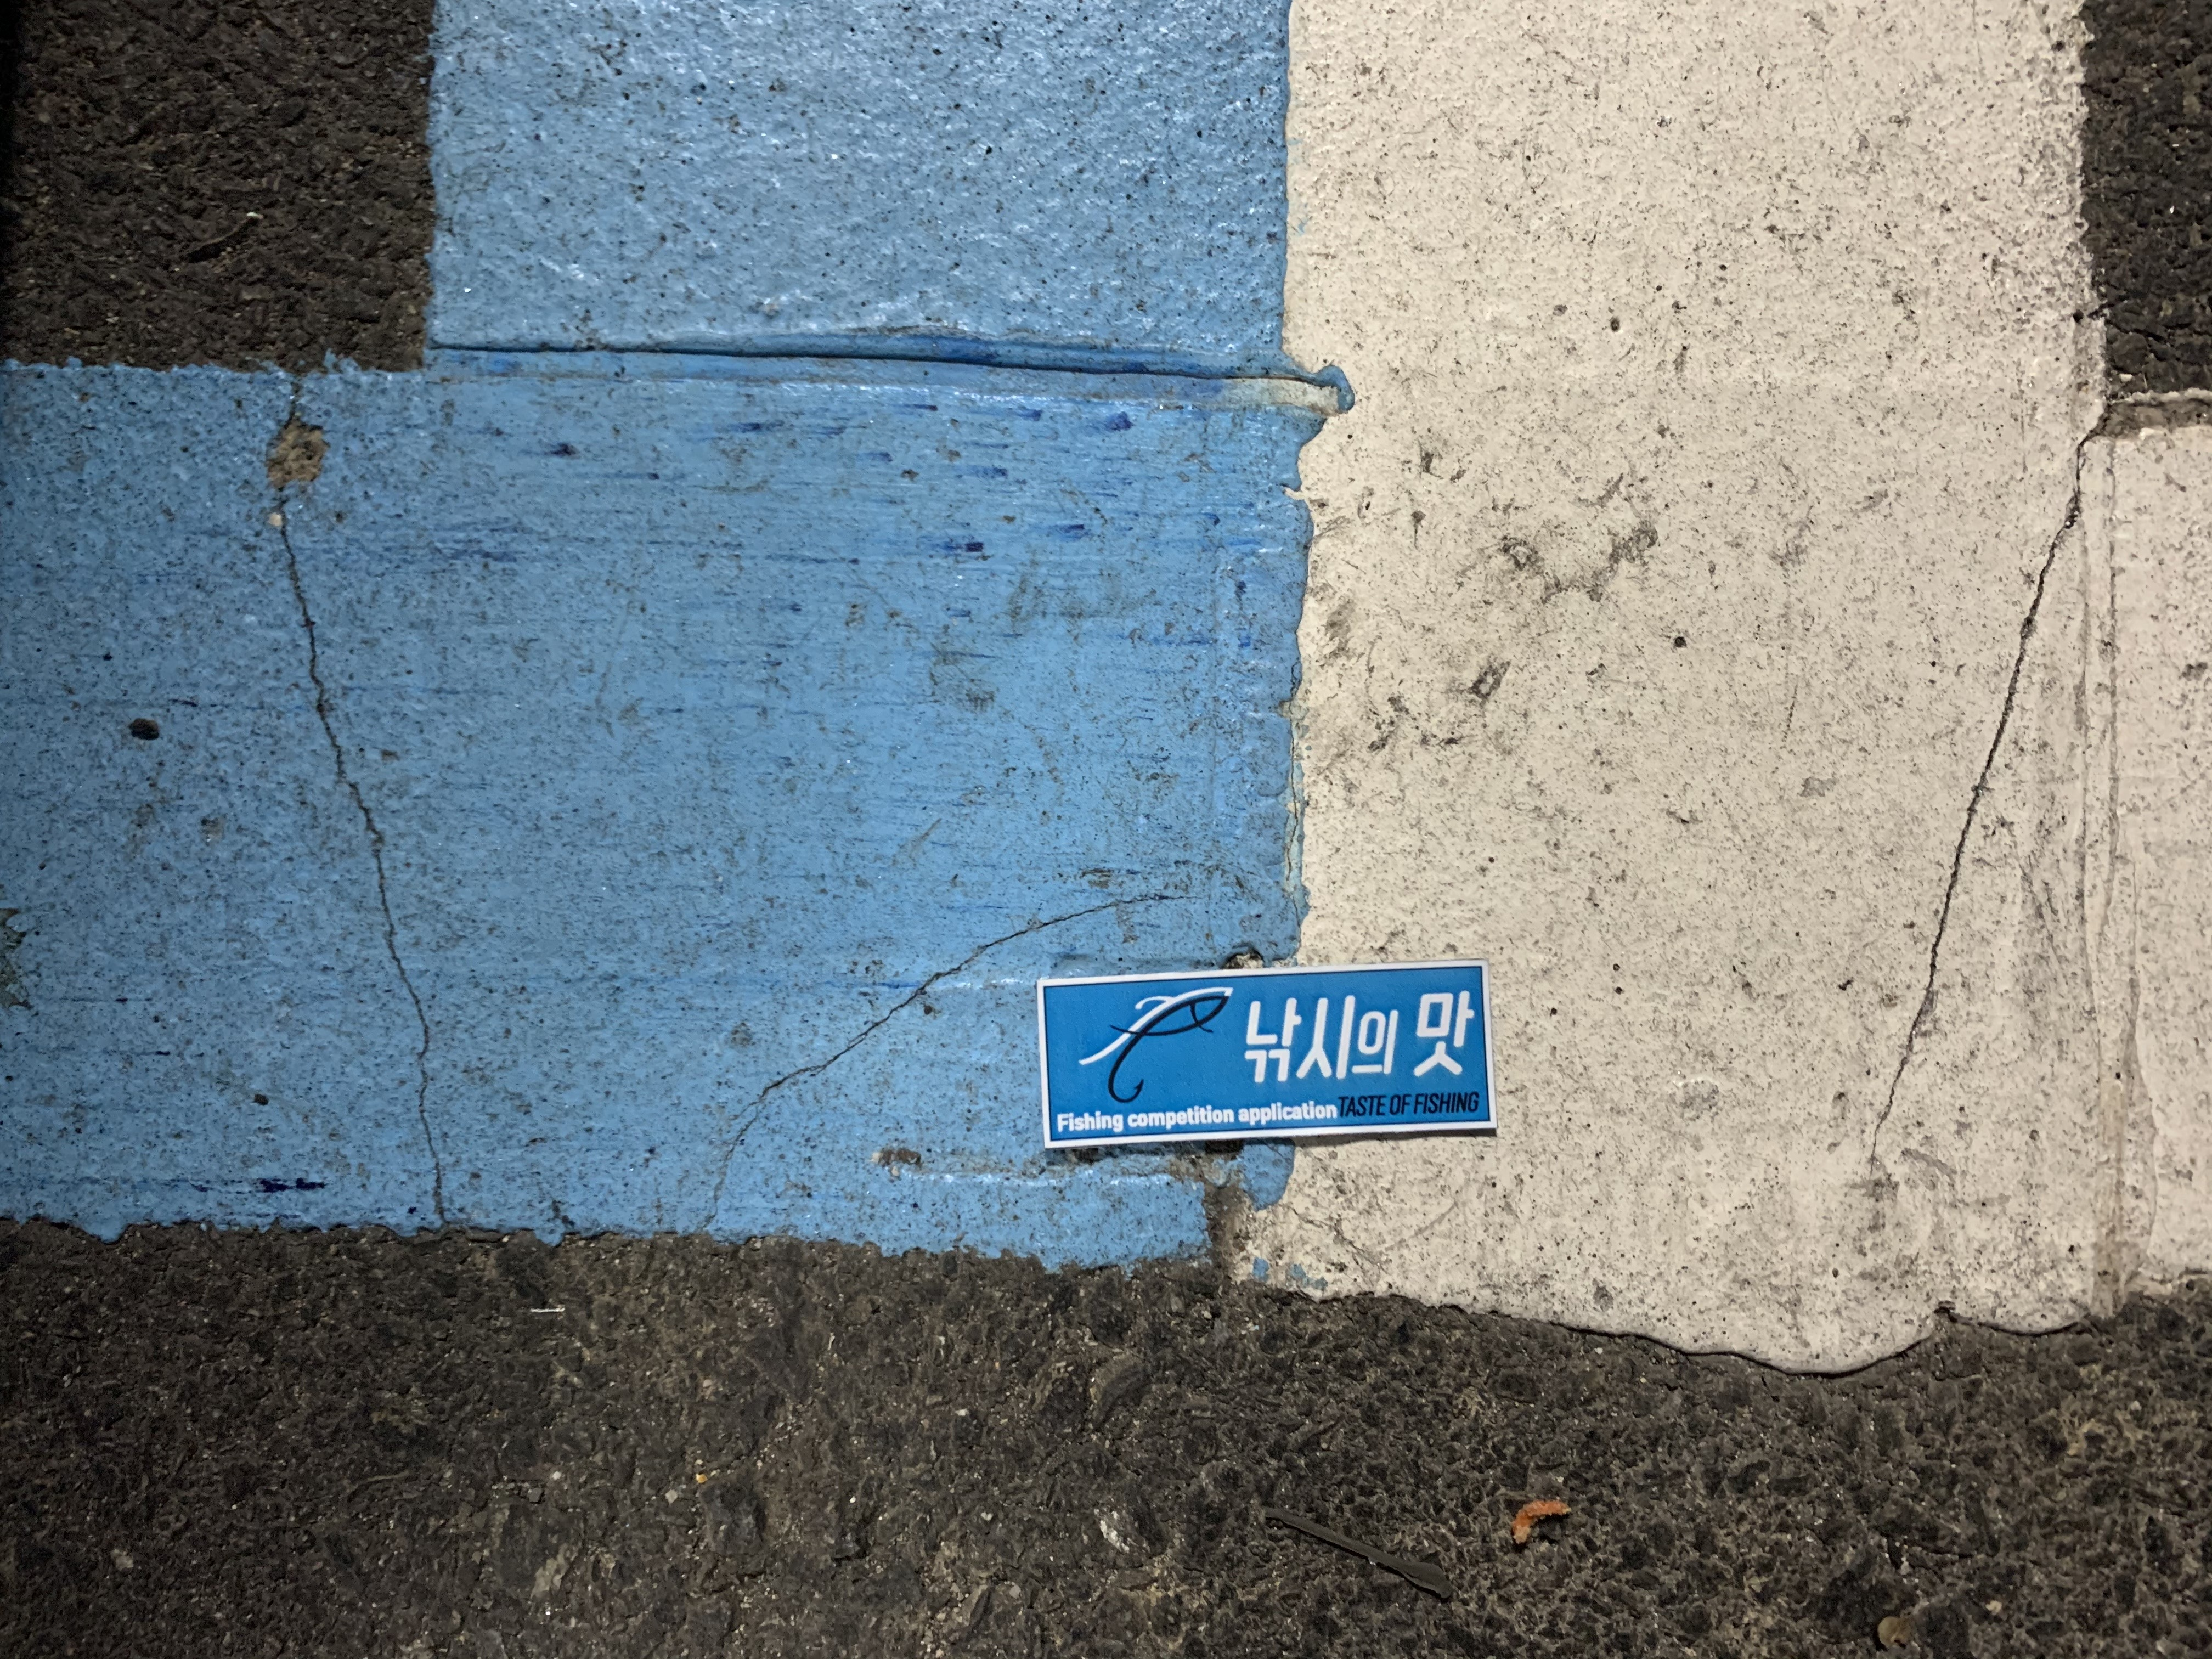tag: (1038, 958, 1498, 1147)
